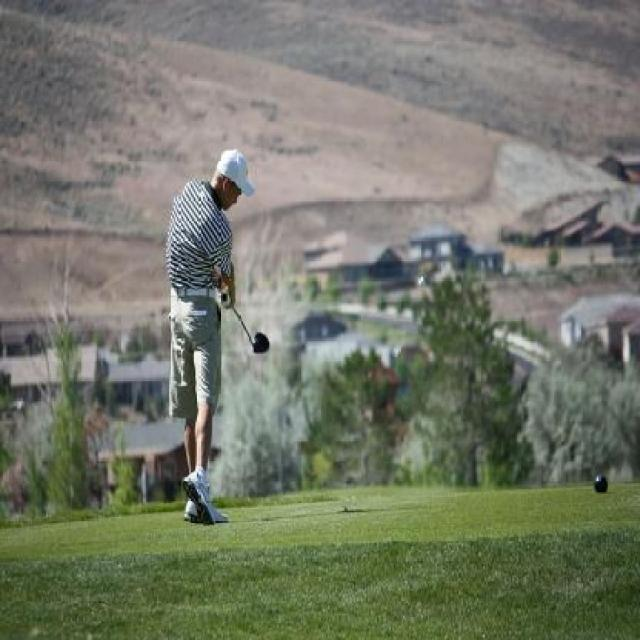club head: (248, 330, 270, 355)
